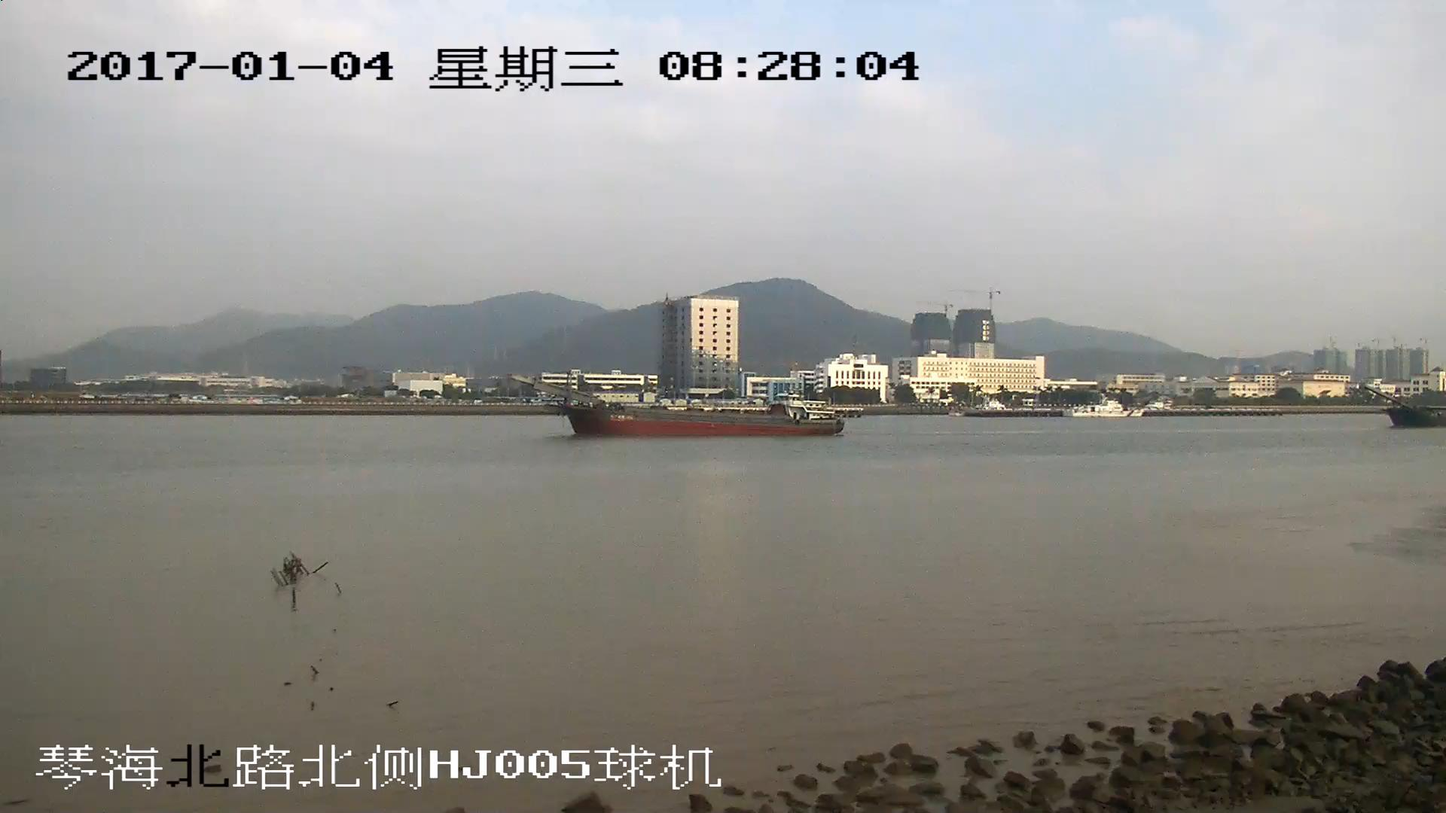bulk cargo carrier: (514, 374, 842, 436)
